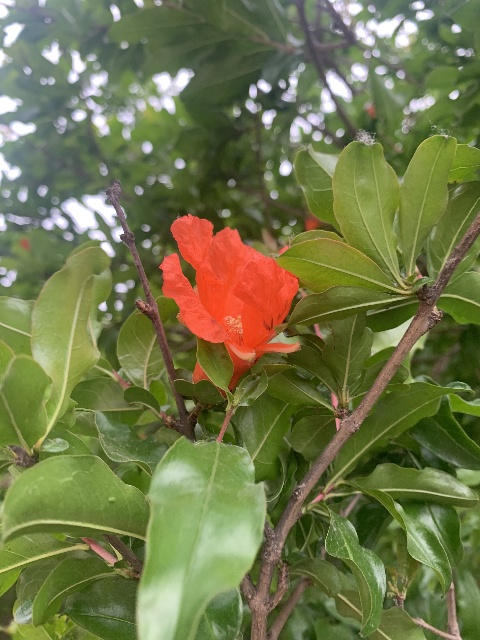flower: (158, 213, 300, 394)
